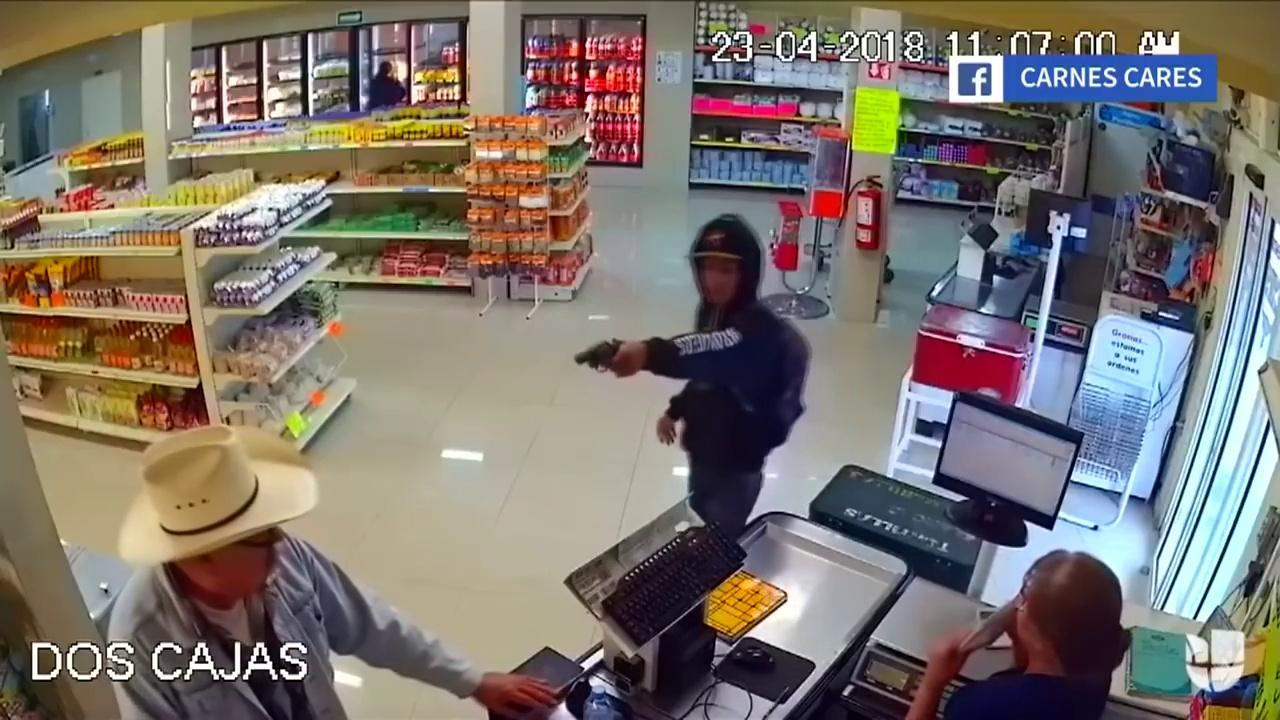Guns: (549, 323, 644, 401)
